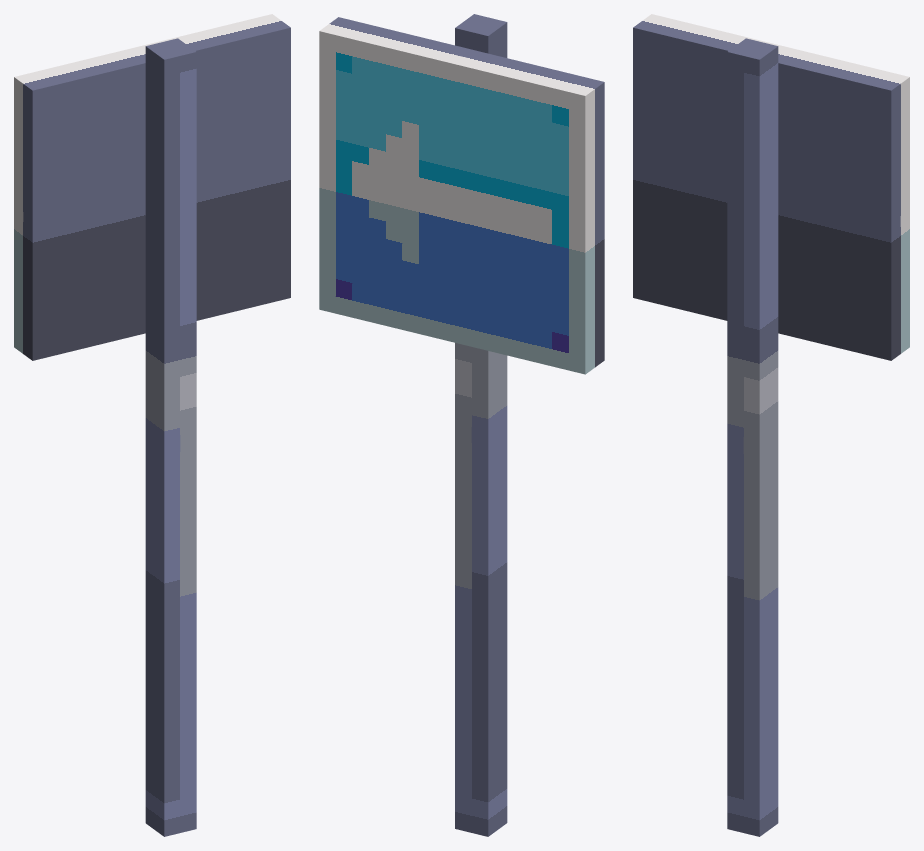
The model's file is directional-street-sign-left-named-nodes.gltf.
3 views of the same model, side by side, from view 1: azimuth 30°, elevation 25°; view 2: azimuth 150°, elevation 25°; view 3: azimuth 330°, elevation 25° (orthographic). The views are drawn at different scales.
Visible parts, largest first — view 1: cube (×2); view 2: cube (×2); view 3: cube (×2).
Part boxes in pixels (<box>): cube (×2): <box>14,14,290,836</box>; cube (×2): <box>319,14,604,836</box>; cube (×2): <box>633,14,909,836</box>.
Bounding box in the file's own units: 1 × 2.88 × 0.25.
1 material, 1 textured.
